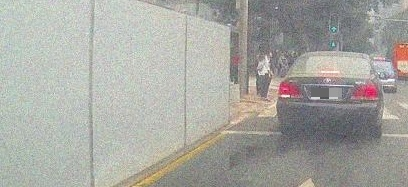L_light: (279, 80, 303, 98)
R_light: (351, 83, 380, 99)
T_light: (321, 70, 340, 73)
day-left: (277, 52, 383, 135)
plate_1: (311, 88, 342, 99)
